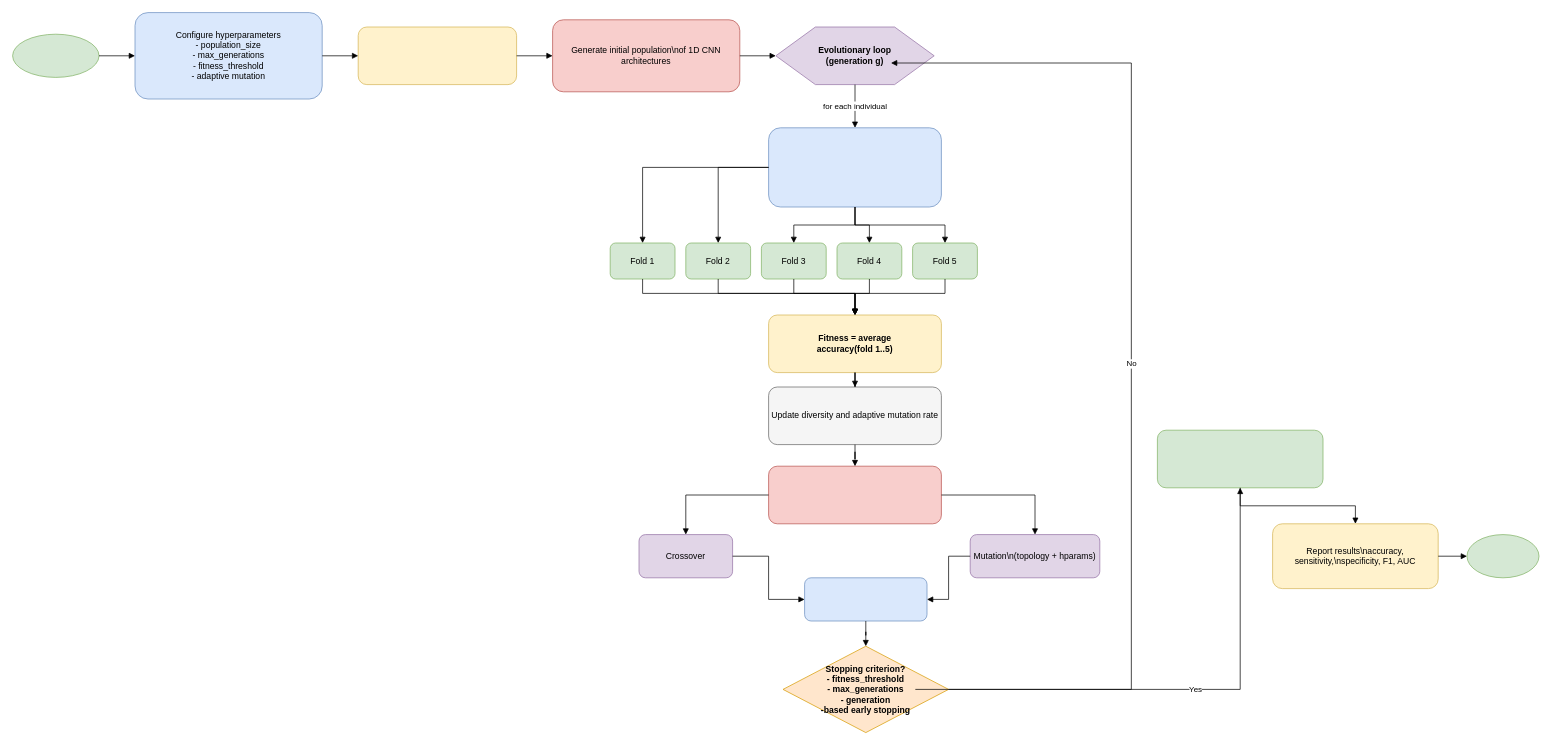
The diagram is 1552 pixels wide and 745 high, and some of its shapes have lost their labels. The box of each missing label's shape, as (x1, y1, x2, y2) in pixels:
End: (1466, 534, 1539, 578)
Evaluate each individual\nwith parallel 5-fold CV (ThreadPoolExecutor): (768, 127, 941, 207)
Load audio dataset (.npy per fold): (357, 26, 517, 85)
New generation: (804, 577, 927, 621)
Re-evaluate best architecture\n(final 5-fold CV): (1157, 429, 1323, 488)
Selection + elitism (keep best individuals): (768, 465, 941, 524)
Start: (12, 33, 99, 77)
